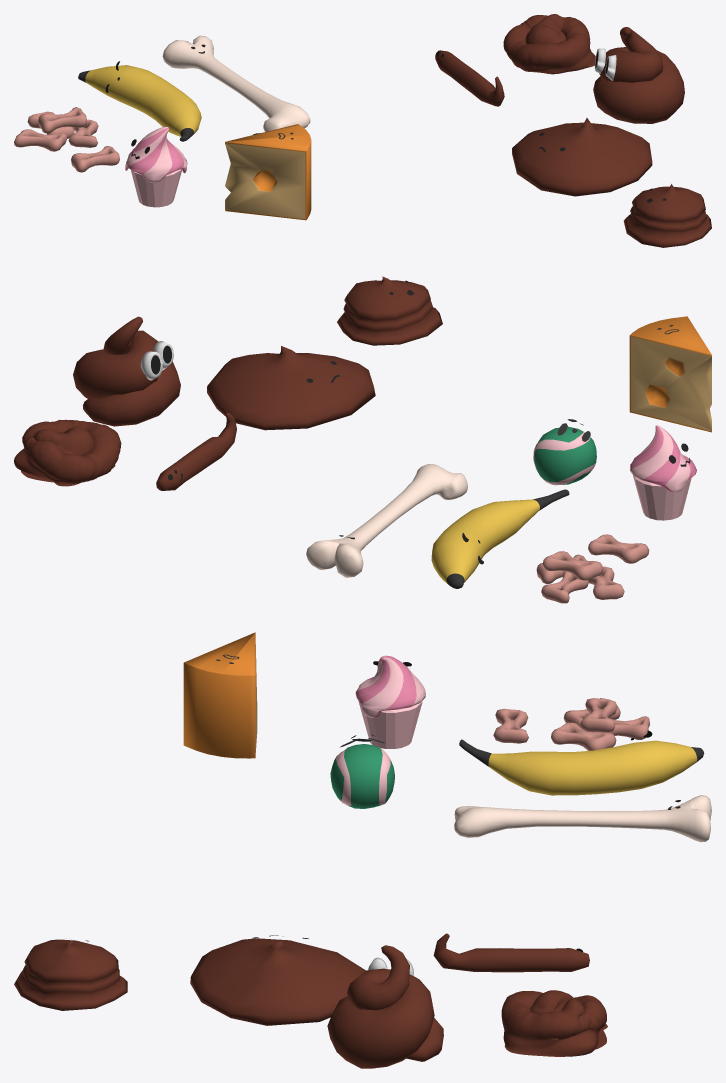
Rendered from Scene_Scene_Collection.fbx.
3 views of the same model, one above another, from view 1: azimuth 30°, elevation 25°; view 2: azimuth 150°, elevation 25°; view 3: azimuth 270°, elevation 25° (orthographic). The views are drawn at different scales.
Parts seen in each view (by area): view 1: poop2, item_cheese, poop1, item_banana, poop4, poop3, item_bone, item_cupcake, item_snaccs, poop5; view 2: poop2, poop1, item_cheese, poop4, poop3, item_banana, item_bone, item_cupcake, item_snaccs, item_ball, poop5; view 3: poop2, poop1, item_banana, item_cheese, poop4, poop3, item_bone, item_cupcake, item_snaccs, poop5, item_ball.
Part boxes in pixels (x1=…): poop2: x1=512, y1=118, x2=652, y2=196; item_cheese: x1=225, y1=124, x2=311, y2=220; poop1: x1=593, y1=27, x2=684, y2=123; item_banana: x1=78, y1=61, x2=201, y2=141; poop4: x1=503, y1=14, x2=595, y2=74; poop3: x1=623, y1=184, x2=711, y2=247; item_bone: x1=162, y1=35, x2=310, y2=131; item_cupcake: x1=125, y1=126, x2=187, y2=207; item_snaccs: x1=14, y1=107, x2=119, y2=172; poop5: x1=435, y1=50, x2=504, y2=106; poop2: x1=207, y1=346, x2=375, y2=430; poop1: x1=73, y1=316, x2=180, y2=426; item_cheese: x1=629, y1=316, x2=711, y2=432; poop4: x1=14, y1=419, x2=121, y2=486; poop3: x1=337, y1=276, x2=442, y2=345; item_banana: x1=431, y1=489, x2=569, y2=588; item_bone: x1=306, y1=464, x2=467, y2=577; item_cupcake: x1=630, y1=425, x2=696, y2=520; item_snaccs: x1=536, y1=534, x2=649, y2=603; item_ball: x1=533, y1=419, x2=596, y2=485; poop5: x1=156, y1=413, x2=236, y2=490; poop2: x1=190, y1=935, x2=365, y2=1025; poop1: x1=327, y1=945, x2=443, y2=1068; item_banana: x1=459, y1=730, x2=704, y2=795; item_cheese: x1=183, y1=632, x2=257, y2=758; poop4: x1=501, y1=990, x2=607, y2=1056; poop3: x1=14, y1=939, x2=127, y2=1010; item_bone: x1=454, y1=795, x2=711, y2=842; item_cupcake: x1=355, y1=655, x2=425, y2=748; item_snaccs: x1=493, y1=698, x2=649, y2=750; poop5: x1=433, y1=933, x2=589, y2=972; item_ball: x1=330, y1=734, x2=394, y2=808.
Bounding box in the file's own units: 783 × 168 × 687.
